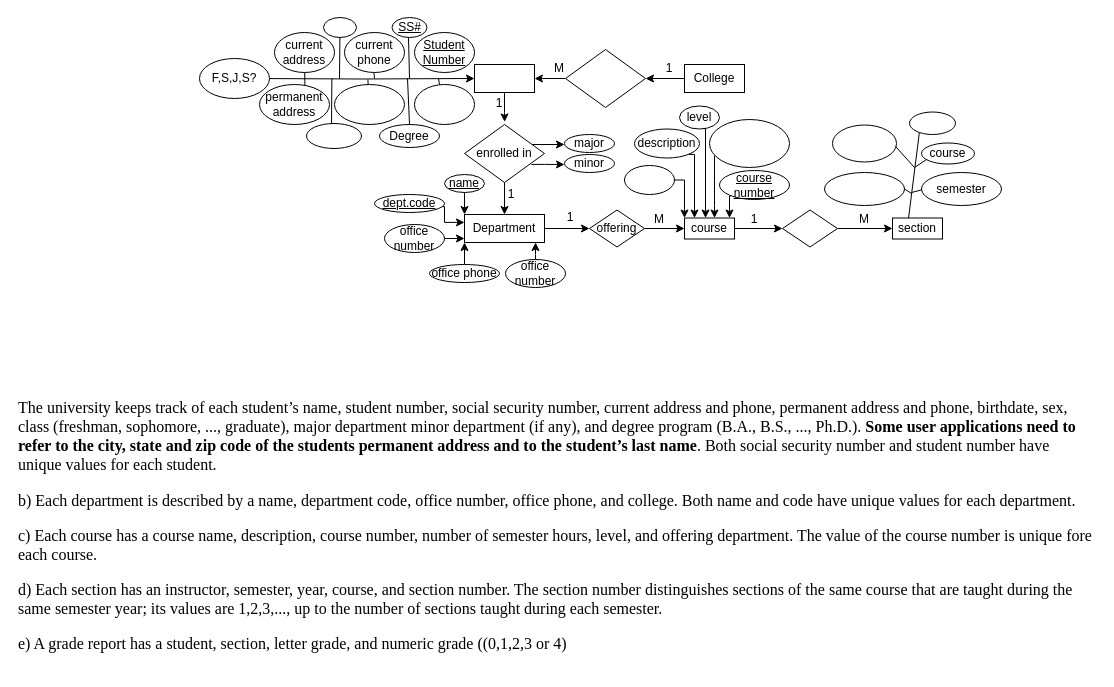
This 1114x687 diagram has some shape labels left out. The centre of each missing label's shape, as x and y in pixels:
Birthdate: the point at 334,135
course name: the point at 649,179
enrolled at: the point at 605,78
has: the point at 810,228
instructor: the point at 864,189
number of semester hours: the point at 749,143
permanent phone: the point at 369,104
section number: the point at 864,143
Sex: the point at 339,27
Student: the point at 504,78
Student Name: the point at 444,104
year: the point at 932,122
